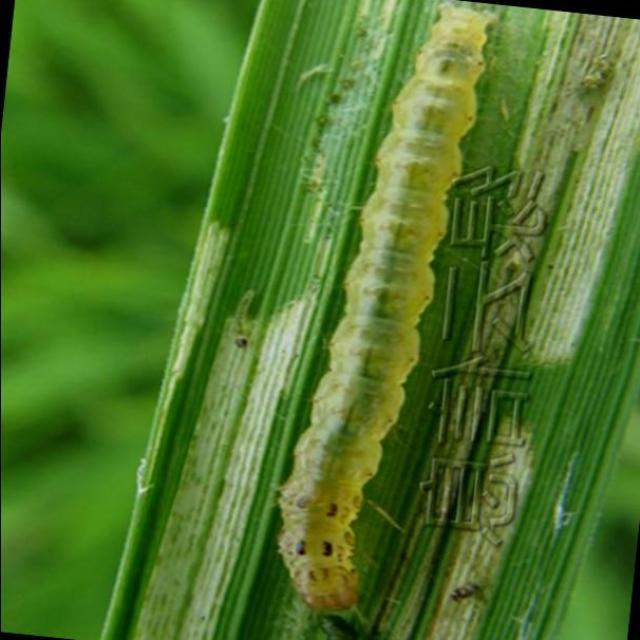leaf folder: (277, 1, 491, 611)
